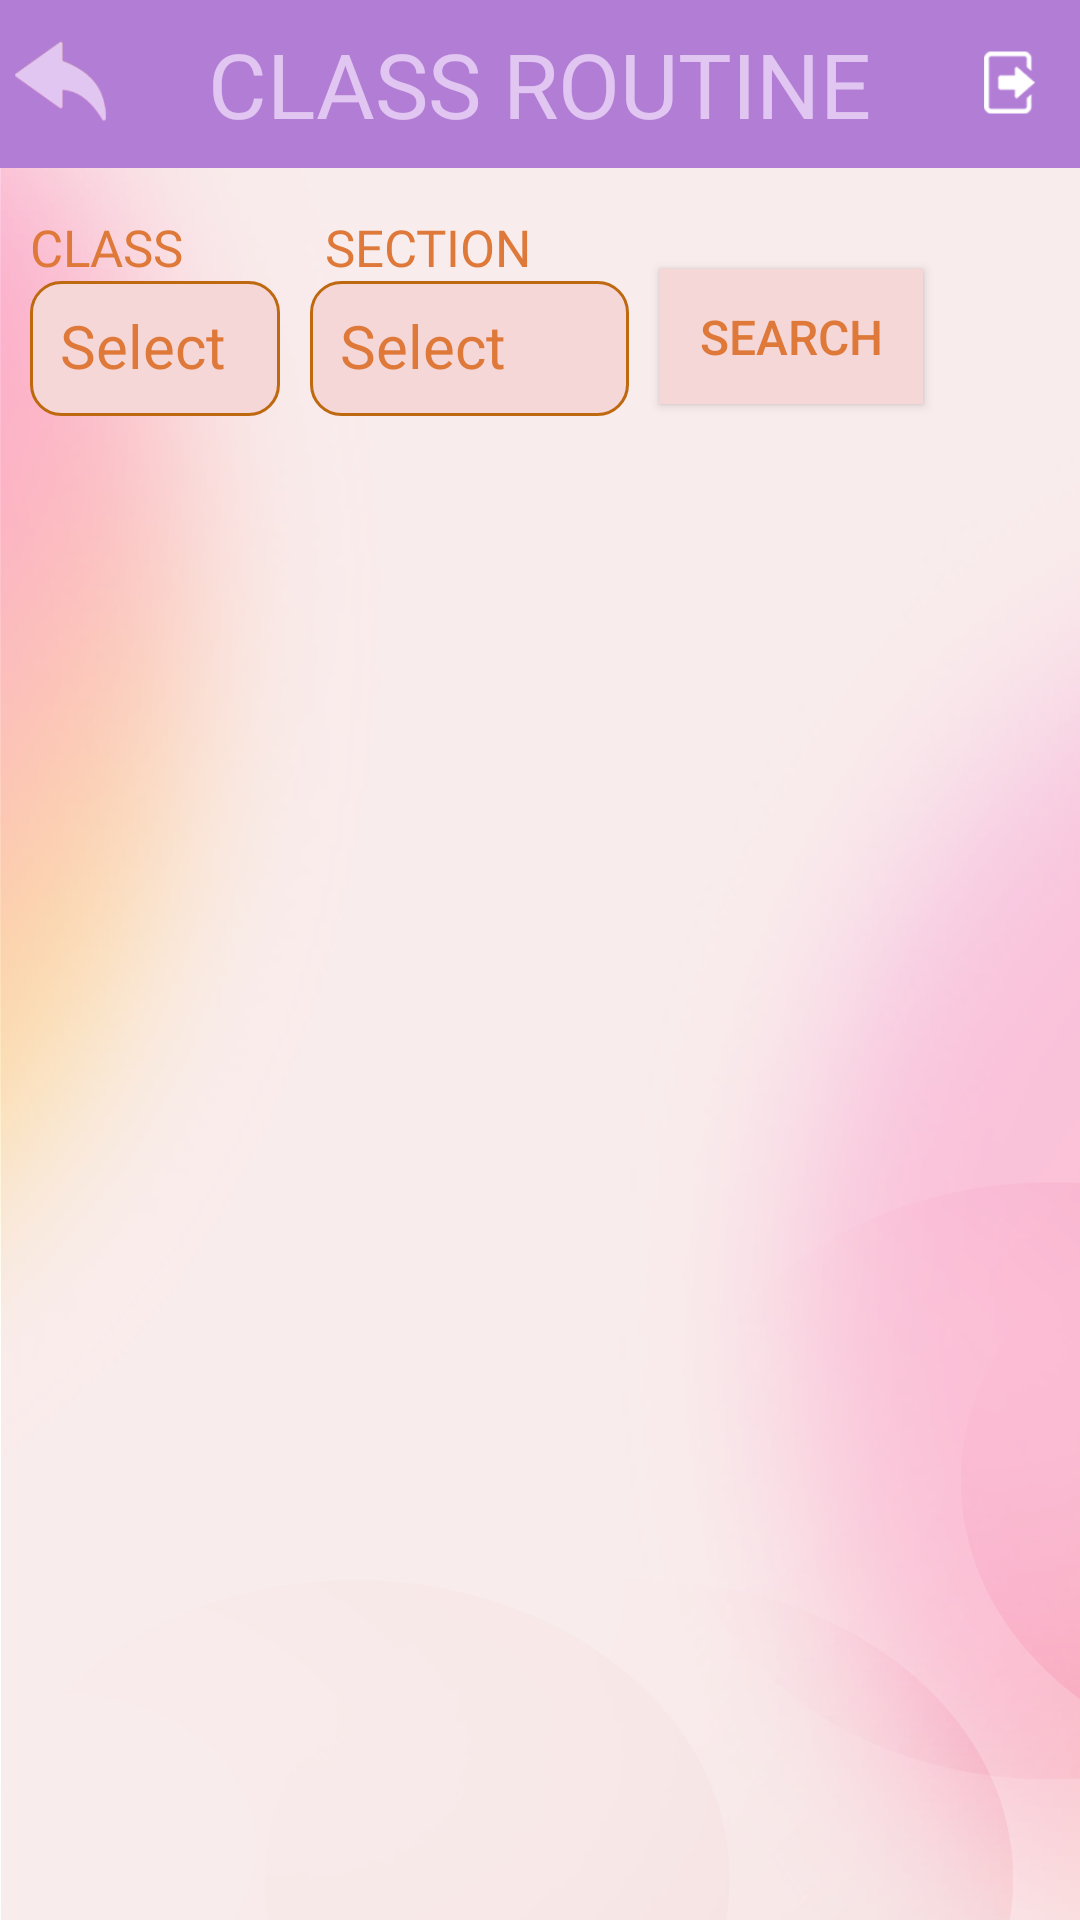

Screen size 1080x1920. Icon name, then its box in pixels as rect(x1, y1, x2, y2):
undo: rect(15, 42, 106, 121)
